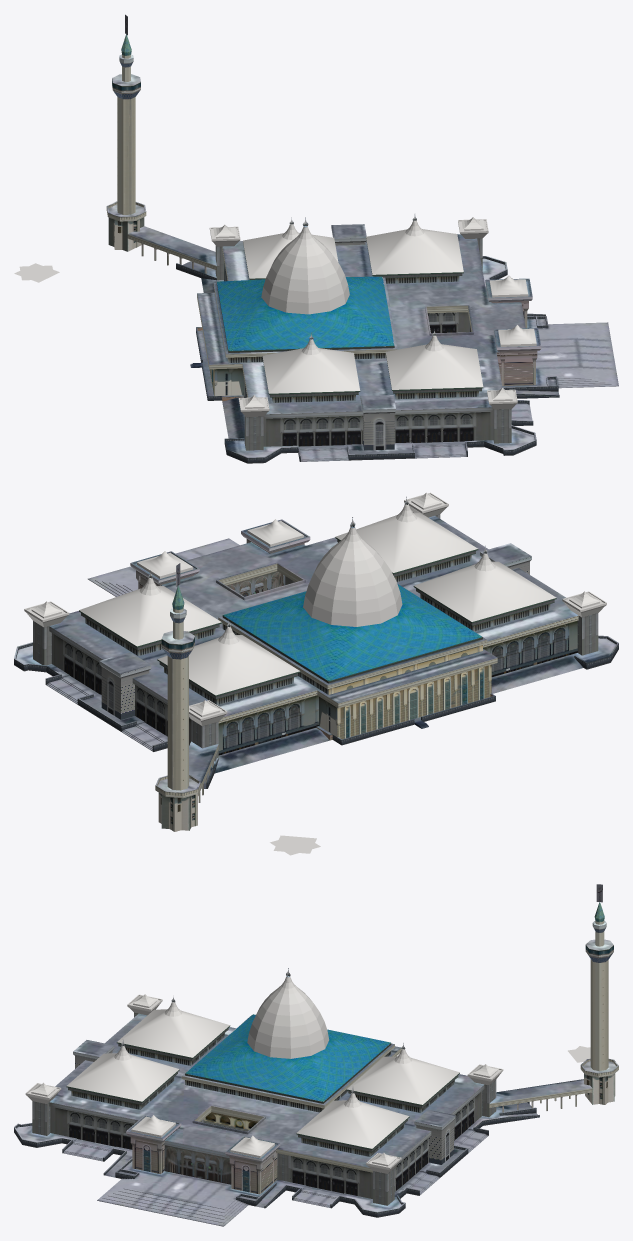
Rendered from alakbar.obj.
The picture shows the model from 3 angles, top to bottom: view 1: azimuth 30°, elevation 25°; view 2: azimuth 150°, elevation 25°; view 3: azimuth 270°, elevation 25°; orthographic projection. The views are drawn at different scales.
Parts seen in each view (by area): view 1: Mesh73 Group1 Model, Mesh39 genteng2 Group1 Model, Mesh29 genteng1 Group1 Model, Mesh49 genteng3 Group1 Model, Mesh1 Group3 Group2 Group1 Model, Mesh4 Group6 Group2 Group1 Model, Mesh59 genteng4 Group1 Model, Mesh20 pilar02_2 Group1 Model, Mesh19 pilar02_1 Group1 Model, Mesh2 Group4 Group2 Group1 Model; view 2: Mesh73 Group1 Model, Mesh29 genteng1 Group1 Model, Mesh59 genteng4 Group1 Model, Mesh49 genteng3 Group1 Model, Mesh39 genteng2 Group1 Model, Mesh5 Group7 Group2 Group1 Model, Mesh2 Group4 Group2 Group1 Model, Mesh20 pilar02_2 Group1 Model, Mesh19 pilar02_1 Group1 Model, Mesh6 Group8 Group2 Group1 Model, Mesh75 Model, Mesh1 Group3 Group2 Group1 Model (+2 smaller); view 3: Mesh73 Group1 Model, Mesh49 genteng3 Group1 Model, Mesh39 genteng2 Group1 Model, Mesh29 genteng1 Group1 Model, Mesh59 genteng4 Group1 Model, Mesh3 Group5 Group2 Group1 Model, Mesh6 Group8 Group2 Group1 Model, Mesh19 pilar02_1 Group1 Model, Mesh20 pilar02_2 Group1 Model, Mesh4 Group6 Group2 Group1 Model.
Part boxes in pixels (left/top/right/bottom): Mesh73 Group1 Model: left=106, top=33, right=618, bottom=463; Mesh39 genteng2 Group1 Model: left=385, top=344, right=483, bottom=399; Mesh29 genteng1 Group1 Model: left=262, top=348, right=360, bottom=402; Mesh49 genteng3 Group1 Model: left=366, top=229, right=463, bottom=283; Mesh1 Group3 Group2 Group1 Model: left=269, top=227, right=308, bottom=314; Mesh4 Group6 Group2 Group1 Model: left=305, top=227, right=345, bottom=314; Mesh59 genteng4 Group1 Model: left=243, top=233, right=338, bottom=279; Mesh20 pilar02_2 Group1 Model: left=498, top=325, right=536, bottom=346; Mesh19 pilar02_1 Group1 Model: left=489, top=275, right=528, bottom=297; Mesh2 Group4 Group2 Group1 Model: left=261, top=227, right=303, bottom=305; Mesh73 Group1 Model: left=14, top=512, right=618, bottom=831; Mesh29 genteng1 Group1 Model: left=413, top=561, right=556, bottom=631; Mesh59 genteng4 Group1 Model: left=157, top=635, right=300, bottom=704; Mesh49 genteng3 Group1 Model: left=79, top=586, right=221, bottom=656; Mesh39 genteng2 Group1 Model: left=335, top=512, right=478, bottom=582; Mesh5 Group7 Group2 Group1 Model: left=311, top=528, right=356, bottom=626; Mesh2 Group4 Group2 Group1 Model: left=353, top=528, right=397, bottom=626; Mesh20 pilar02_2 Group1 Model: left=247, top=519, right=303, bottom=546; Mesh19 pilar02_1 Group1 Model: left=137, top=551, right=193, bottom=578; Mesh6 Group8 Group2 Group1 Model: left=303, top=527, right=350, bottom=617; Mesh75 Model: left=270, top=835, right=320, bottom=855; Mesh1 Group3 Group2 Group1 Model: left=355, top=527, right=402, bottom=614; Mesh73 Group1 Model: left=14, top=901, right=618, bottom=1226; Mesh49 genteng3 Group1 Model: left=296, top=1100, right=409, bottom=1156; Mesh39 genteng2 Group1 Model: left=66, top=1053, right=179, bottom=1109; Mesh29 genteng1 Group1 Model: left=116, top=1009, right=230, bottom=1065; Mesh59 genteng4 Group1 Model: left=346, top=1056, right=459, bottom=1112; Mesh3 Group5 Group2 Group1 Model: left=254, top=977, right=290, bottom=1058; Mesh6 Group8 Group2 Group1 Model: left=288, top=977, right=324, bottom=1058; Mesh19 pilar02_1 Group1 Model: left=230, top=1135, right=274, bottom=1158; Mesh20 pilar02_2 Group1 Model: left=131, top=1115, right=175, bottom=1137; Mesh4 Group6 Group2 Group1 Model: left=247, top=977, right=286, bottom=1050.
Size of the model in its own units: 135 by 70.12 by 179.
